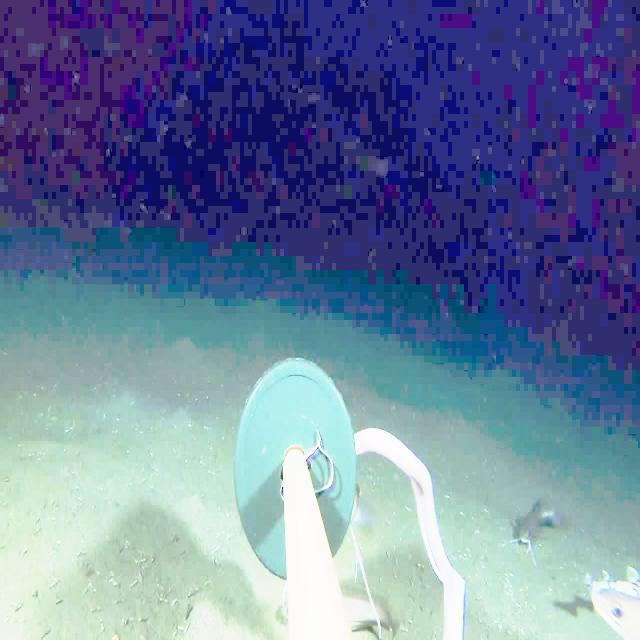eel: (350, 424, 476, 639)
fish: (271, 576, 405, 640), (335, 474, 382, 589), (506, 484, 564, 564), (578, 550, 638, 598), (589, 587, 637, 640)
pole: (233, 361, 356, 639)
